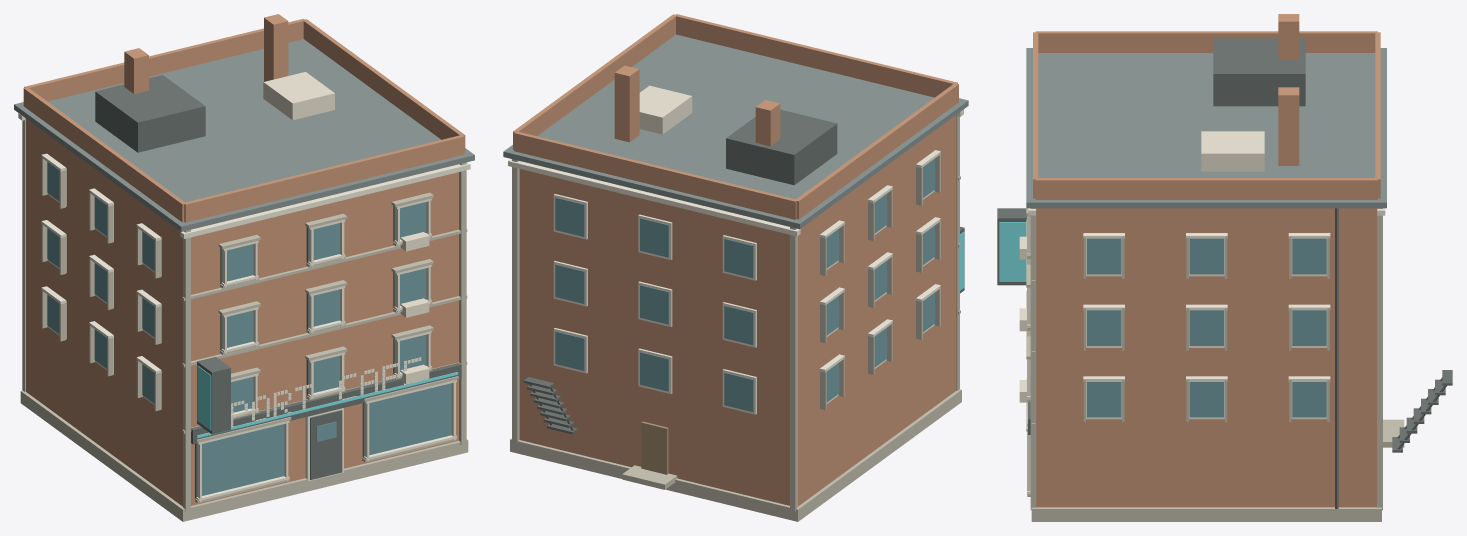
File: urban-0.glb
The picture shows the model from 3 angles, left to right: view 1: azimuth 30°, elevation 25°; view 2: azimuth 150°, elevation 25°; view 3: azimuth 270°, elevation 25°; orthographic projection. The views are drawn at different scales.
Bounding box in the file's own units: 13.9 × 16.44 × 17.3.
